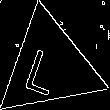L_N: (27, 37, 72, 96)
